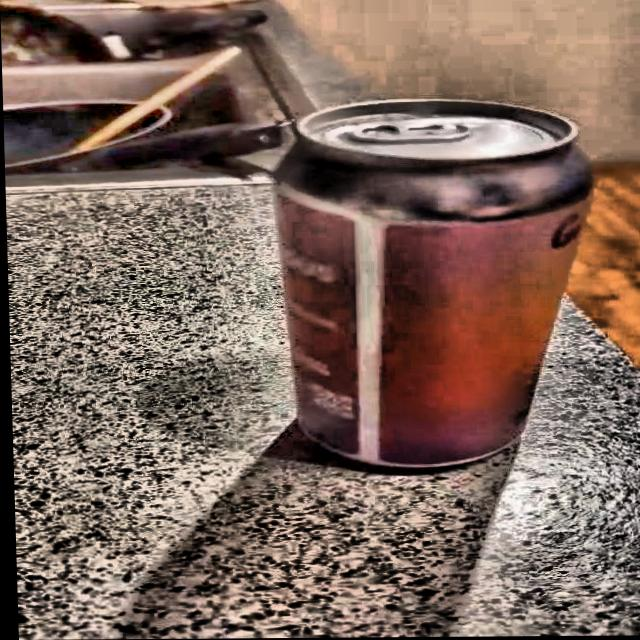can: (258, 89, 615, 484)
